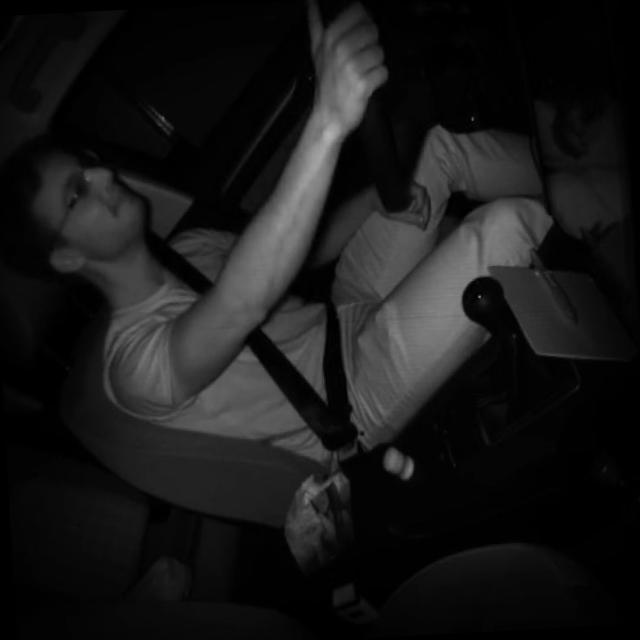pen: (526, 236, 582, 333)
